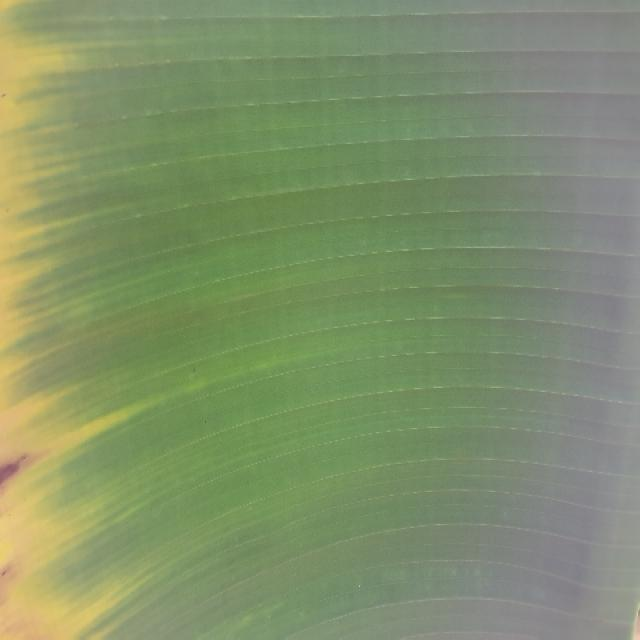Cordana: (0, 0, 254, 639)
